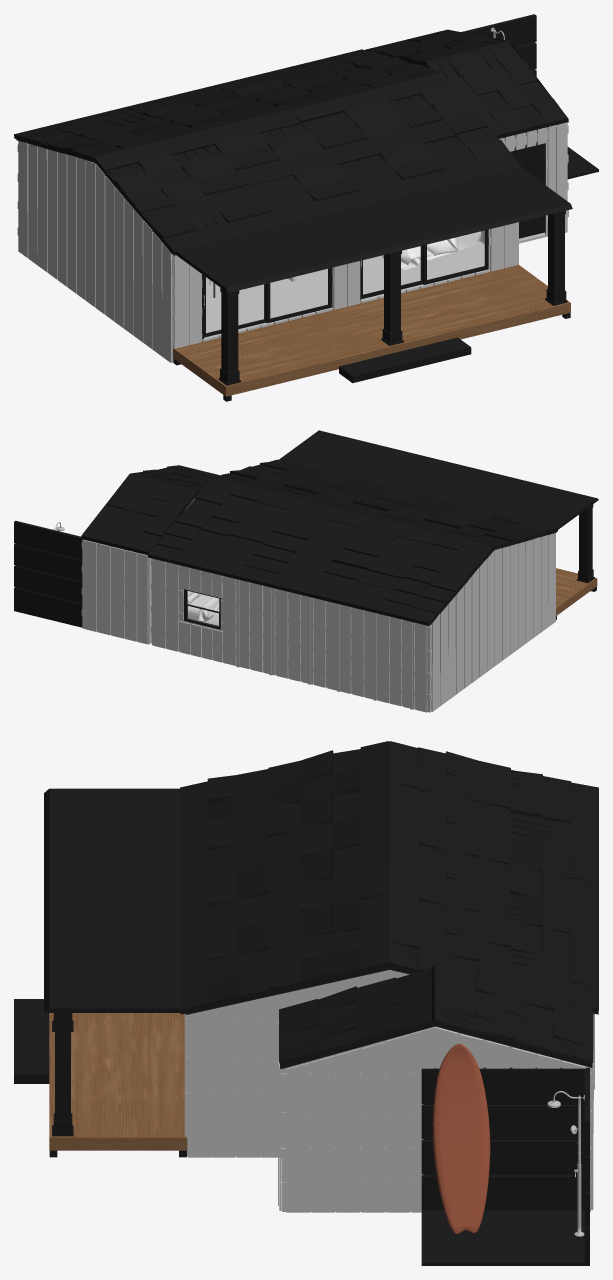
Rendered from 800Sqftfinal.glb.
3 renders of one model, top to bottom at view 1: azimuth 30°, elevation 25°; view 2: azimuth 150°, elevation 25°; view 3: azimuth 270°, elevation 25°, orthographic. The views are drawn at different scales.
Parts seen in each view (by area): view 1: Asphalt_Roof, Vertical_Wall_Pattern.001, Wooden_Base, Frontal_Roof, Asphalt_Side_Room_Roof, House_Base, Pillars, Wooden_Step, Shower_BAse, Glass01, pasted__Glass01, Vertical_Wall_Pattern_For_Side_Room.001 (+9 smaller); view 2: Asphalt_Roof, Vertical_Wall_Pattern.001, Frontal_Roof, Asphalt_Side_Room_Roof, Shower_BAse, Vertical_Wall_Pattern_For_Side_Room.001, Outer_Wall, Vertical_Wall_Pattern, Wooden_Base, Horizontal_Wall_Pattern, Metal_Roof_Sheet, Pillars (+5 smaller); view 3: Asphalt_Roof, Frontal_Roof, Vertical_Wall_Pattern_For_Side_Room.001, Shower_BAse, Asphalt_Side_Room_Roof, Wooden_Base, Vertical_Wall_Pattern.001, Board, Metal_Roof_Sheet, Wooden_Step, Side_Room_Wall, Pillars (+6 smaller).
Part boxes in pixels (left/top/right/bottom): Asphalt_Roof: left=14, top=49, right=522, bottom=255; Vertical_Wall_Pattern.001: left=18, top=141, right=518, bottom=362; Wooden_Base: left=173, top=264, right=570, bottom=396; Frontal_Roof: left=175, top=167, right=572, bottom=292; Asphalt_Side_Room_Roof: left=365, top=29, right=567, bottom=138; House_Base: left=206, top=240, right=484, bottom=333; Pillars: left=218, top=210, right=567, bottom=385; Wooden_Step: left=339, top=337, right=471, bottom=383; Shower_BAse: left=461, top=14, right=598, bottom=179; Glass01: left=270, top=269, right=327, bottom=317; pasted__Glass01: left=427, top=231, right=484, bottom=279; Vertical_Wall_Pattern_For_Side_Room.001: left=499, top=122, right=567, bottom=236; Asphalt_Roof: left=147, top=459, right=557, bottom=625; Vertical_Wall_Pattern.001: left=152, top=533, right=555, bottom=712; Frontal_Roof: left=279, top=430, right=598, bottom=529; Asphalt_Side_Room_Roof: left=82, top=465, right=220, bottom=555; Shower_BAse: left=14, top=521, right=82, bottom=627; Vertical_Wall_Pattern_For_Side_Room.001: left=83, top=540, right=148, bottom=644; Outer_Wall: left=151, top=558, right=431, bottom=712; Vertical_Wall_Pattern: left=236, top=579, right=412, bottom=709; Wooden_Base: left=556, top=568, right=597, bottom=615; Horizontal_Wall_Pattern: left=151, top=559, right=431, bottom=700; Metal_Roof_Sheet: left=187, top=472, right=535, bottom=618; Pillars: left=576, top=504, right=594, bottom=583; Asphalt_Roof: left=180, top=741, right=598, bottom=1014; Frontal_Roof: left=44, top=788, right=180, bottom=1012; Vertical_Wall_Pattern_For_Side_Room.001: left=279, top=1027, right=593, bottom=1212; Shower_BAse: left=421, top=1067, right=589, bottom=1265; Asphalt_Side_Room_Roof: left=279, top=967, right=593, bottom=1067; Wooden_Base: left=49, top=1013, right=187, bottom=1150; Vertical_Wall_Pattern.001: left=184, top=970, right=593, bottom=1157; Board: left=432, top=1043, right=490, bottom=1234; Metal_Roof_Sheet: left=208, top=741, right=586, bottom=974; Wooden_Step: left=14, top=999, right=49, bottom=1083; Side_Room_Wall: left=282, top=1026, right=590, bottom=1211; Pillars: left=52, top=1013, right=73, bottom=1136.
Size of the model in its own units: 0.1472 by 0.0407 by 0.1104.
9 materials, 1 textured.
